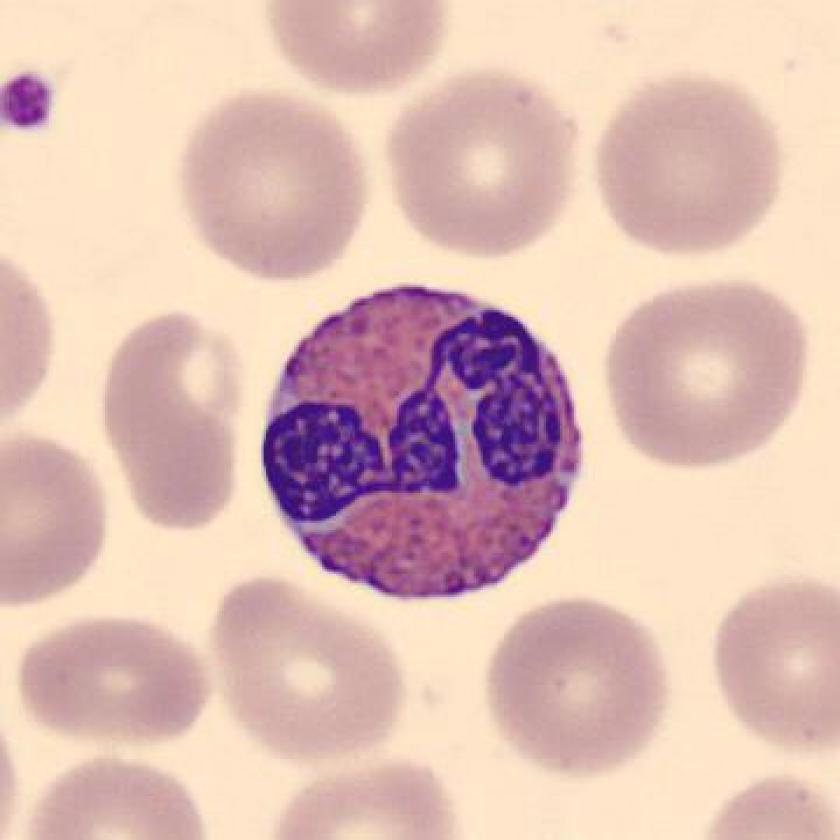eosinophil: (253, 277, 596, 615)
